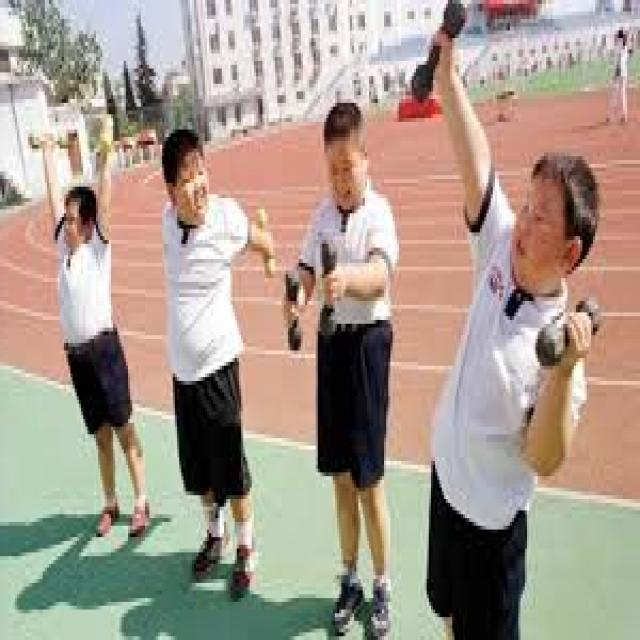child: (419, 103, 613, 640), (291, 68, 429, 640), (160, 112, 275, 579), (44, 96, 129, 552)
